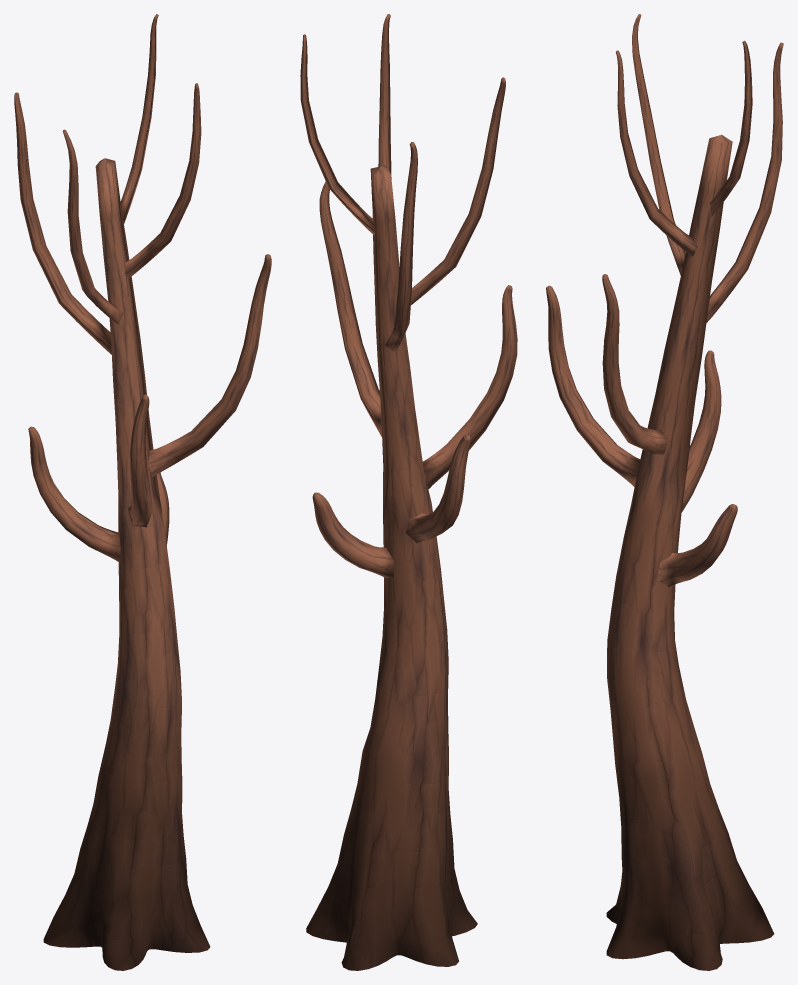
File: commontree_3_bare.gltf
The picture shows the model from 3 angles, left to right: view 1: azimuth 30°, elevation 25°; view 2: azimuth 150°, elevation 25°; view 3: azimuth 270°, elevation 25°; orthographic projection. The views are drawn at different scales.
Visible parts, largest first — view 1: commontree_3_bare; view 2: commontree_3_bare; view 3: commontree_3_bare.
Boxes of the visible parts, <box> form: commontree_3_bare: <box>14,14,271,970</box>; commontree_3_bare: <box>300,14,517,970</box>; commontree_3_bare: <box>546,14,783,970</box>.
Bounding box in the file's own units: 1.89 × 8.22 × 1.92.
Materials: 1 (1 with a texture image).
